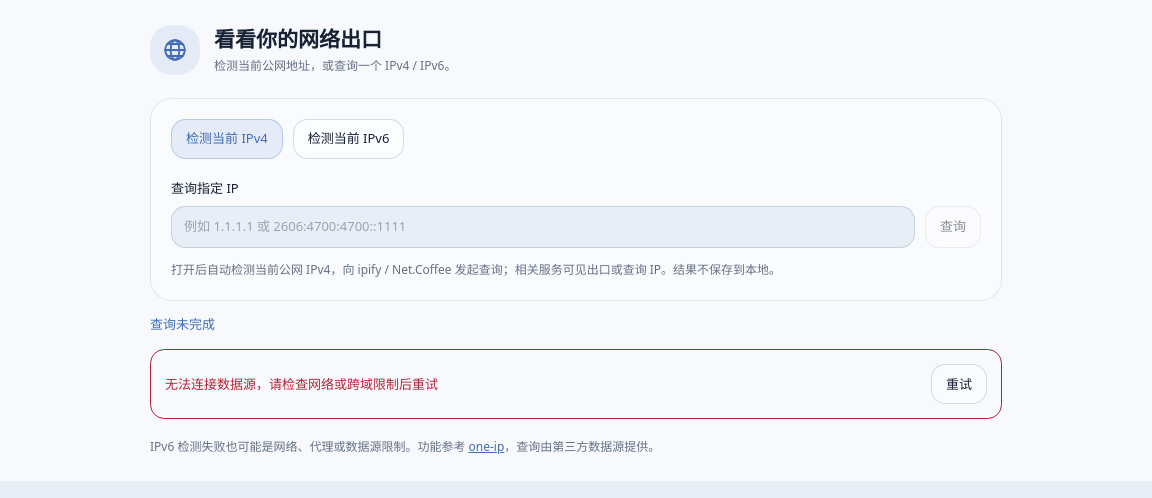
Test case: IP detection panel › explains IPv6 connection failure and offers a retry
The width and height of the screenshot is (1152, 498).
Click the button "检测当前 IPv6".
click(349, 139)  # box [293,119,404,159]
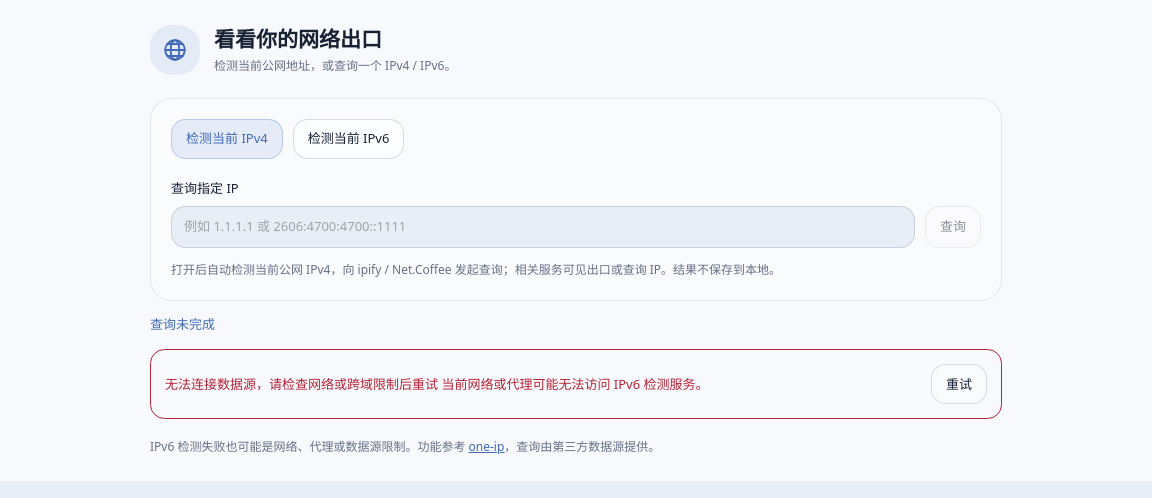
Expected: the button "重试" is shown, [931,364,987,404]
Expected: the message "无法连接数据源，请检查网络或跨域限制后重试 当前网络或代理可能无法访问 IPv6 检测服务。 重试" is shown, [150,349,1002,419]
